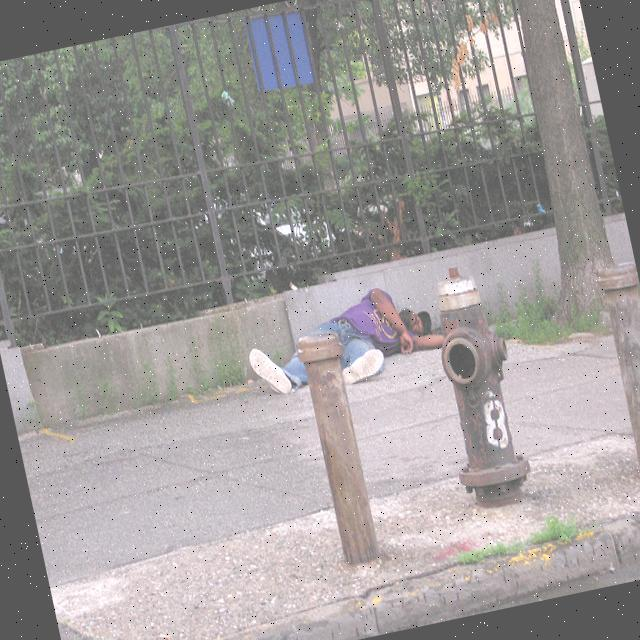fire_hydrant: (414, 257, 538, 513)
